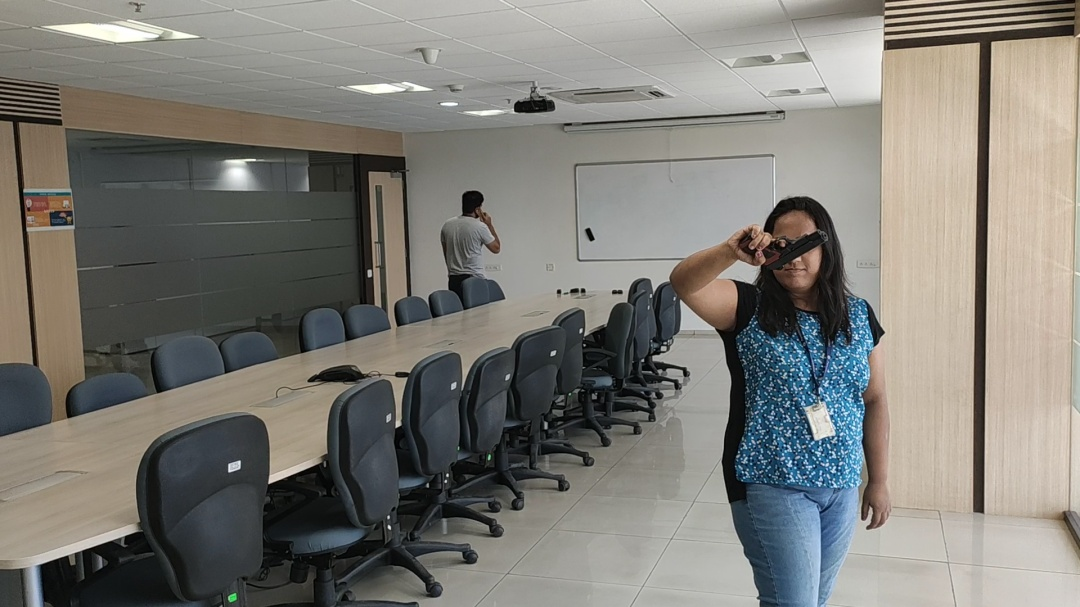gun: (762, 230, 830, 271)
